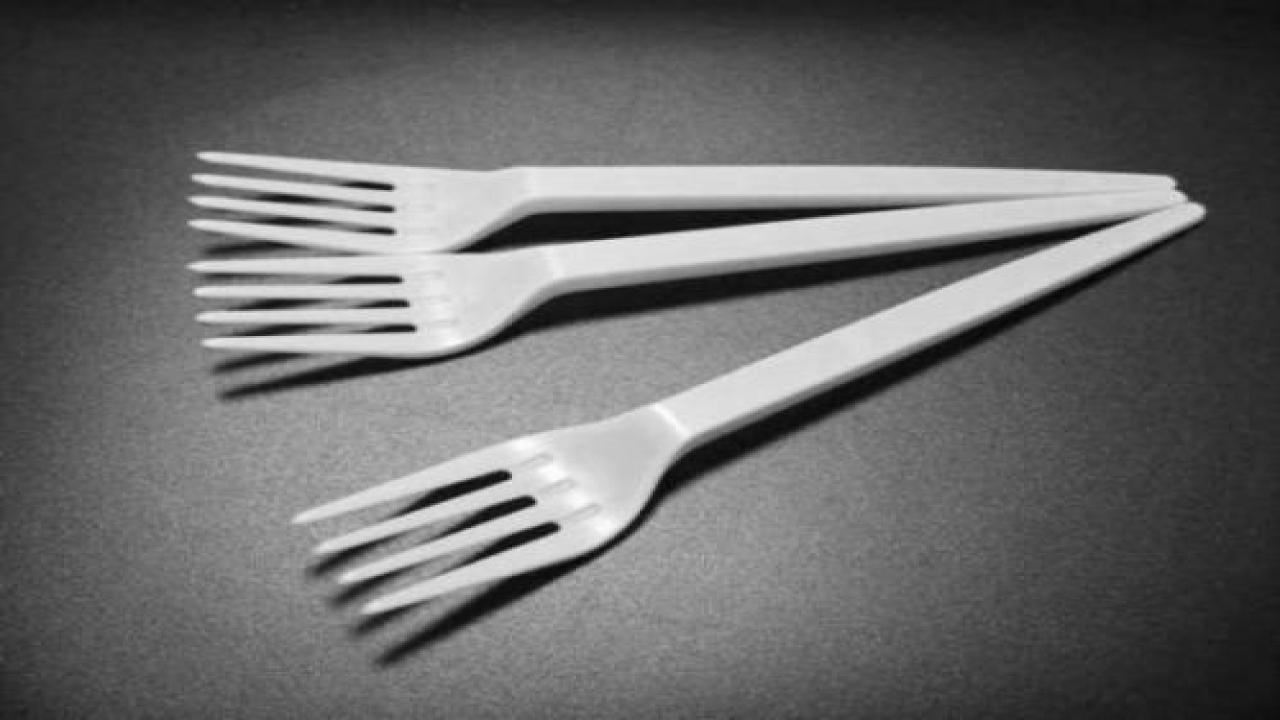fork: (286, 198, 1206, 616), (185, 184, 1186, 359), (184, 146, 1183, 253)
